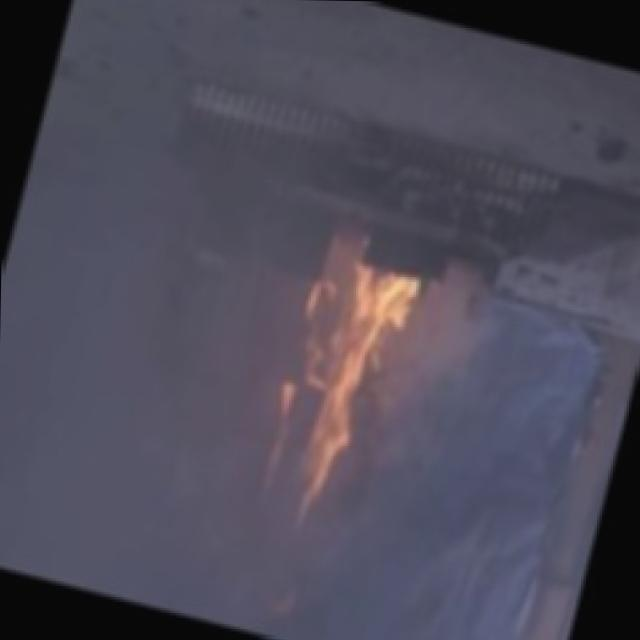fire: (232, 238, 426, 542)
